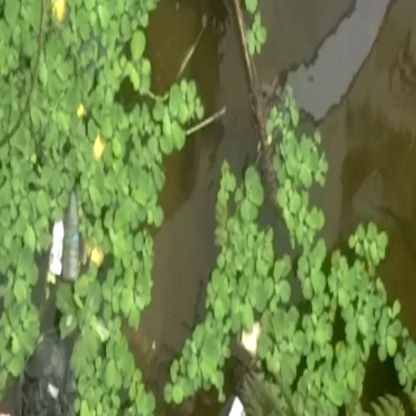bottle: (61, 187, 89, 279)
